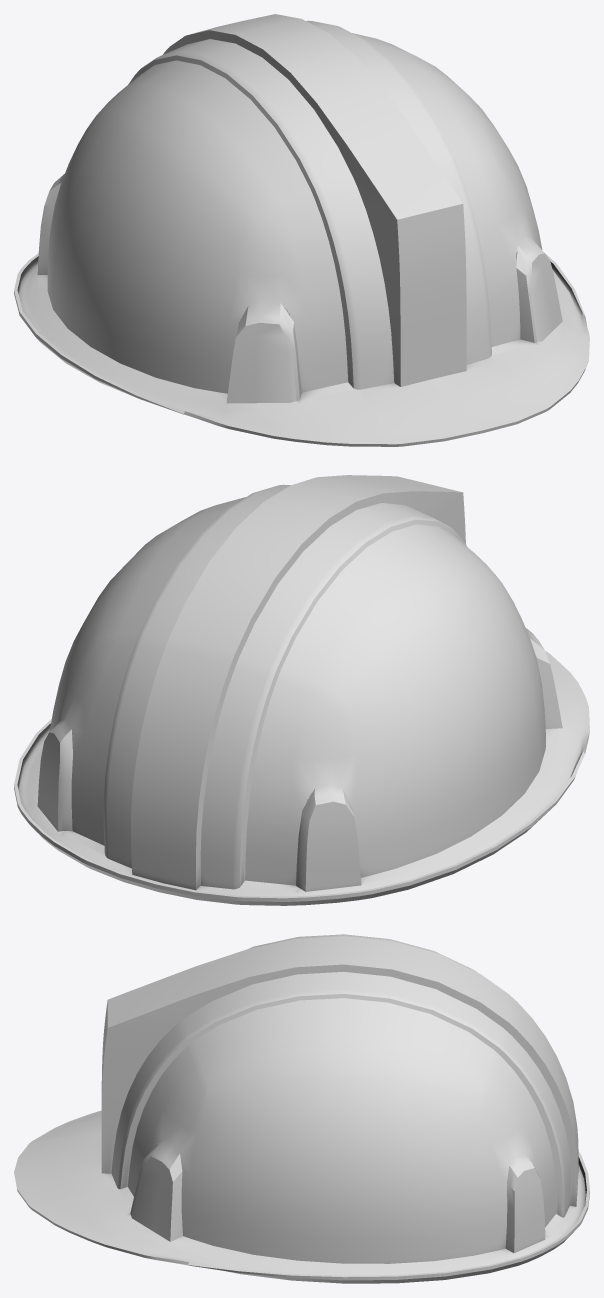
Rendered from casco blanco Low Poly Plano.fbx.
The picture shows the model from 3 angles, top to bottom: view 1: azimuth 30°, elevation 25°; view 2: azimuth 150°, elevation 25°; view 3: azimuth 270°, elevation 25°; orthographic projection. The views are drawn at different scales.
Visible parts, largest first — view 1: casco blanco Plano; view 2: casco blanco Plano; view 3: casco blanco Plano.
Boxes of the visible parts, bbox=[...] form: casco blanco Plano: bbox=[14, 14, 589, 446]; casco blanco Plano: bbox=[14, 475, 589, 905]; casco blanco Plano: bbox=[14, 934, 589, 1283].
Bounding box in the file's own units: 23.49 × 13.52 × 28.34.
Materials: 1 (1 with a texture image).
